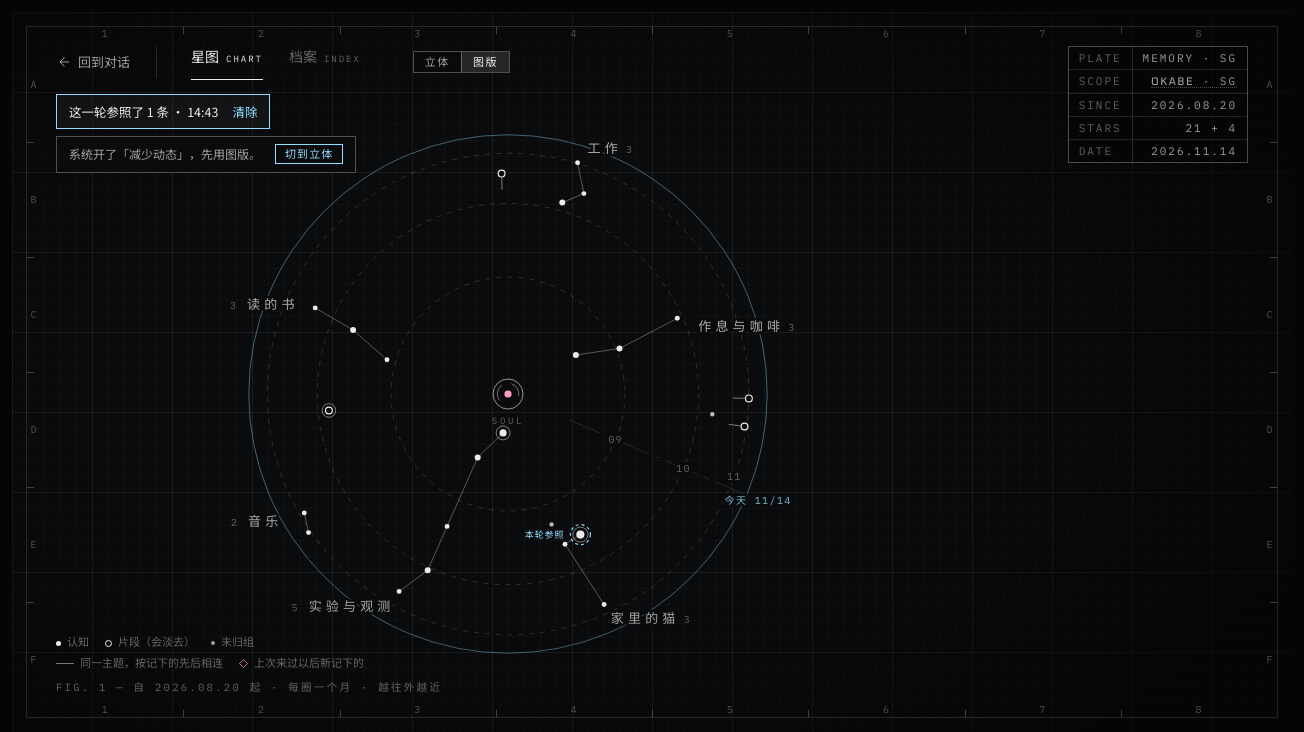
MemorySpace opened from a chat mark › ［清除］removes the reticles and the hint
The width and height of the screenshot is (1304, 732).
Click the button with test id "memory-ref-clear": (245, 112) [232,102,257,121]
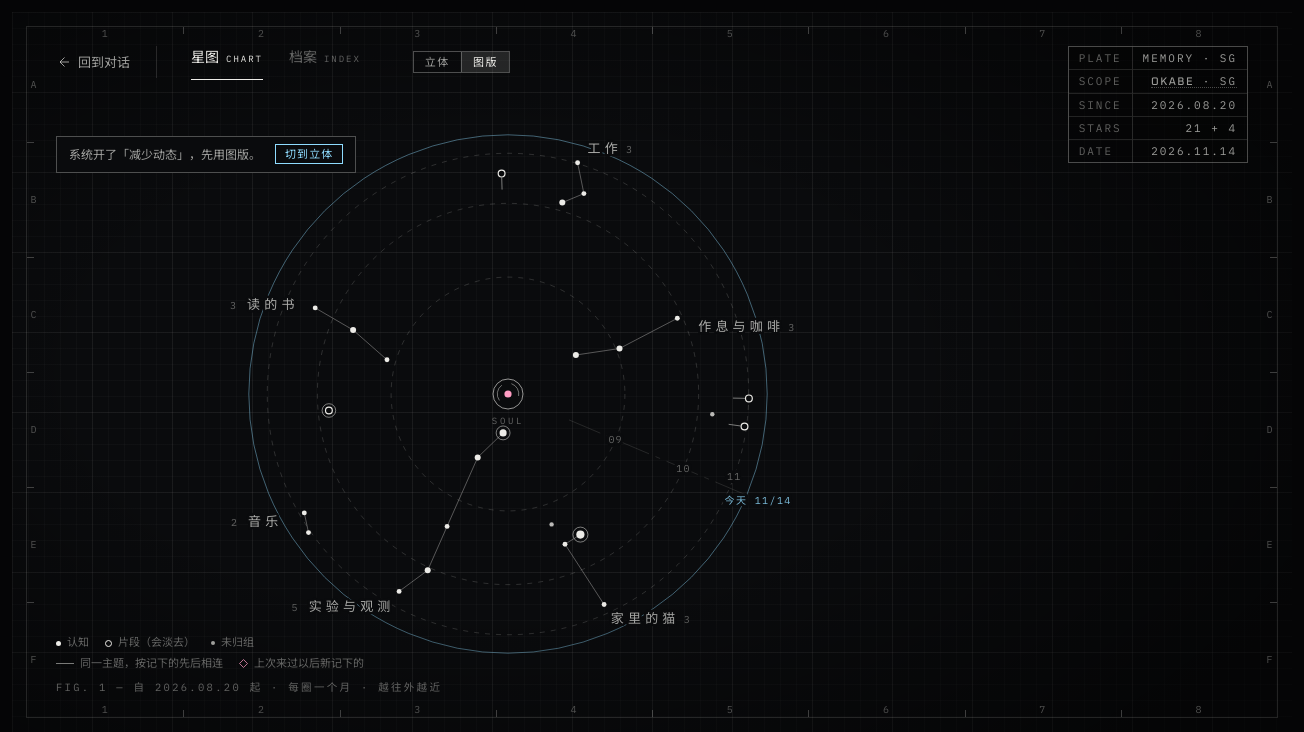
Expected: the element with test id "memory-ref-hint" is gone
